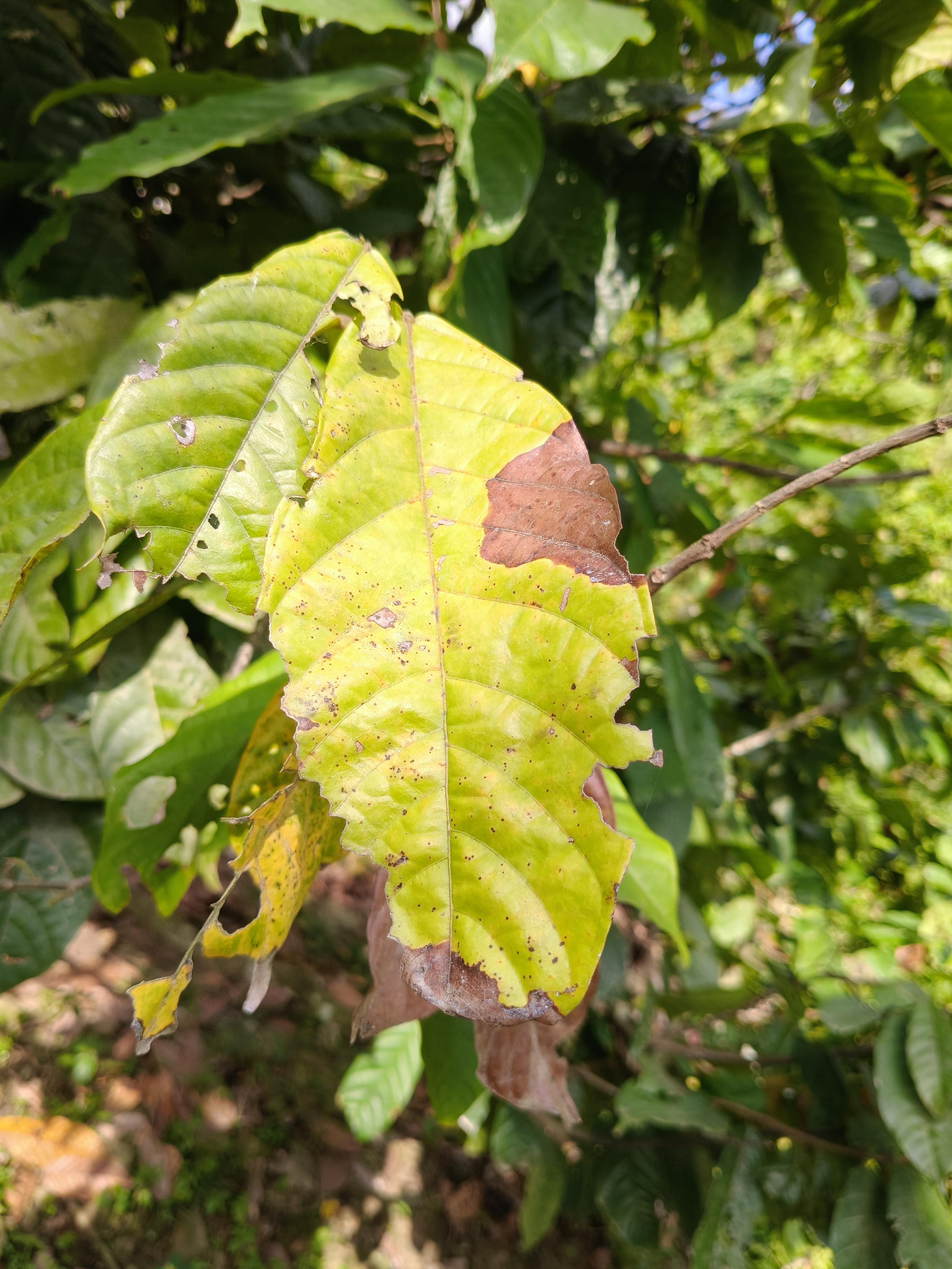deficiencia_potasio: (279, 313, 626, 1019)
